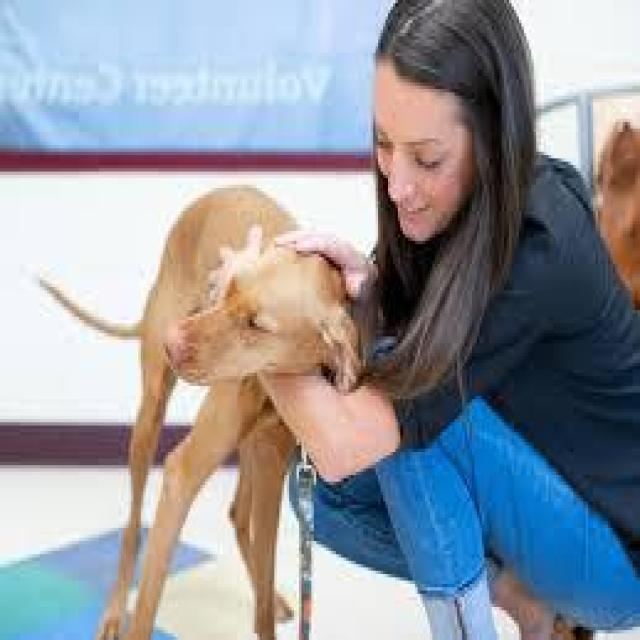Dog: (152, 229, 360, 404)
